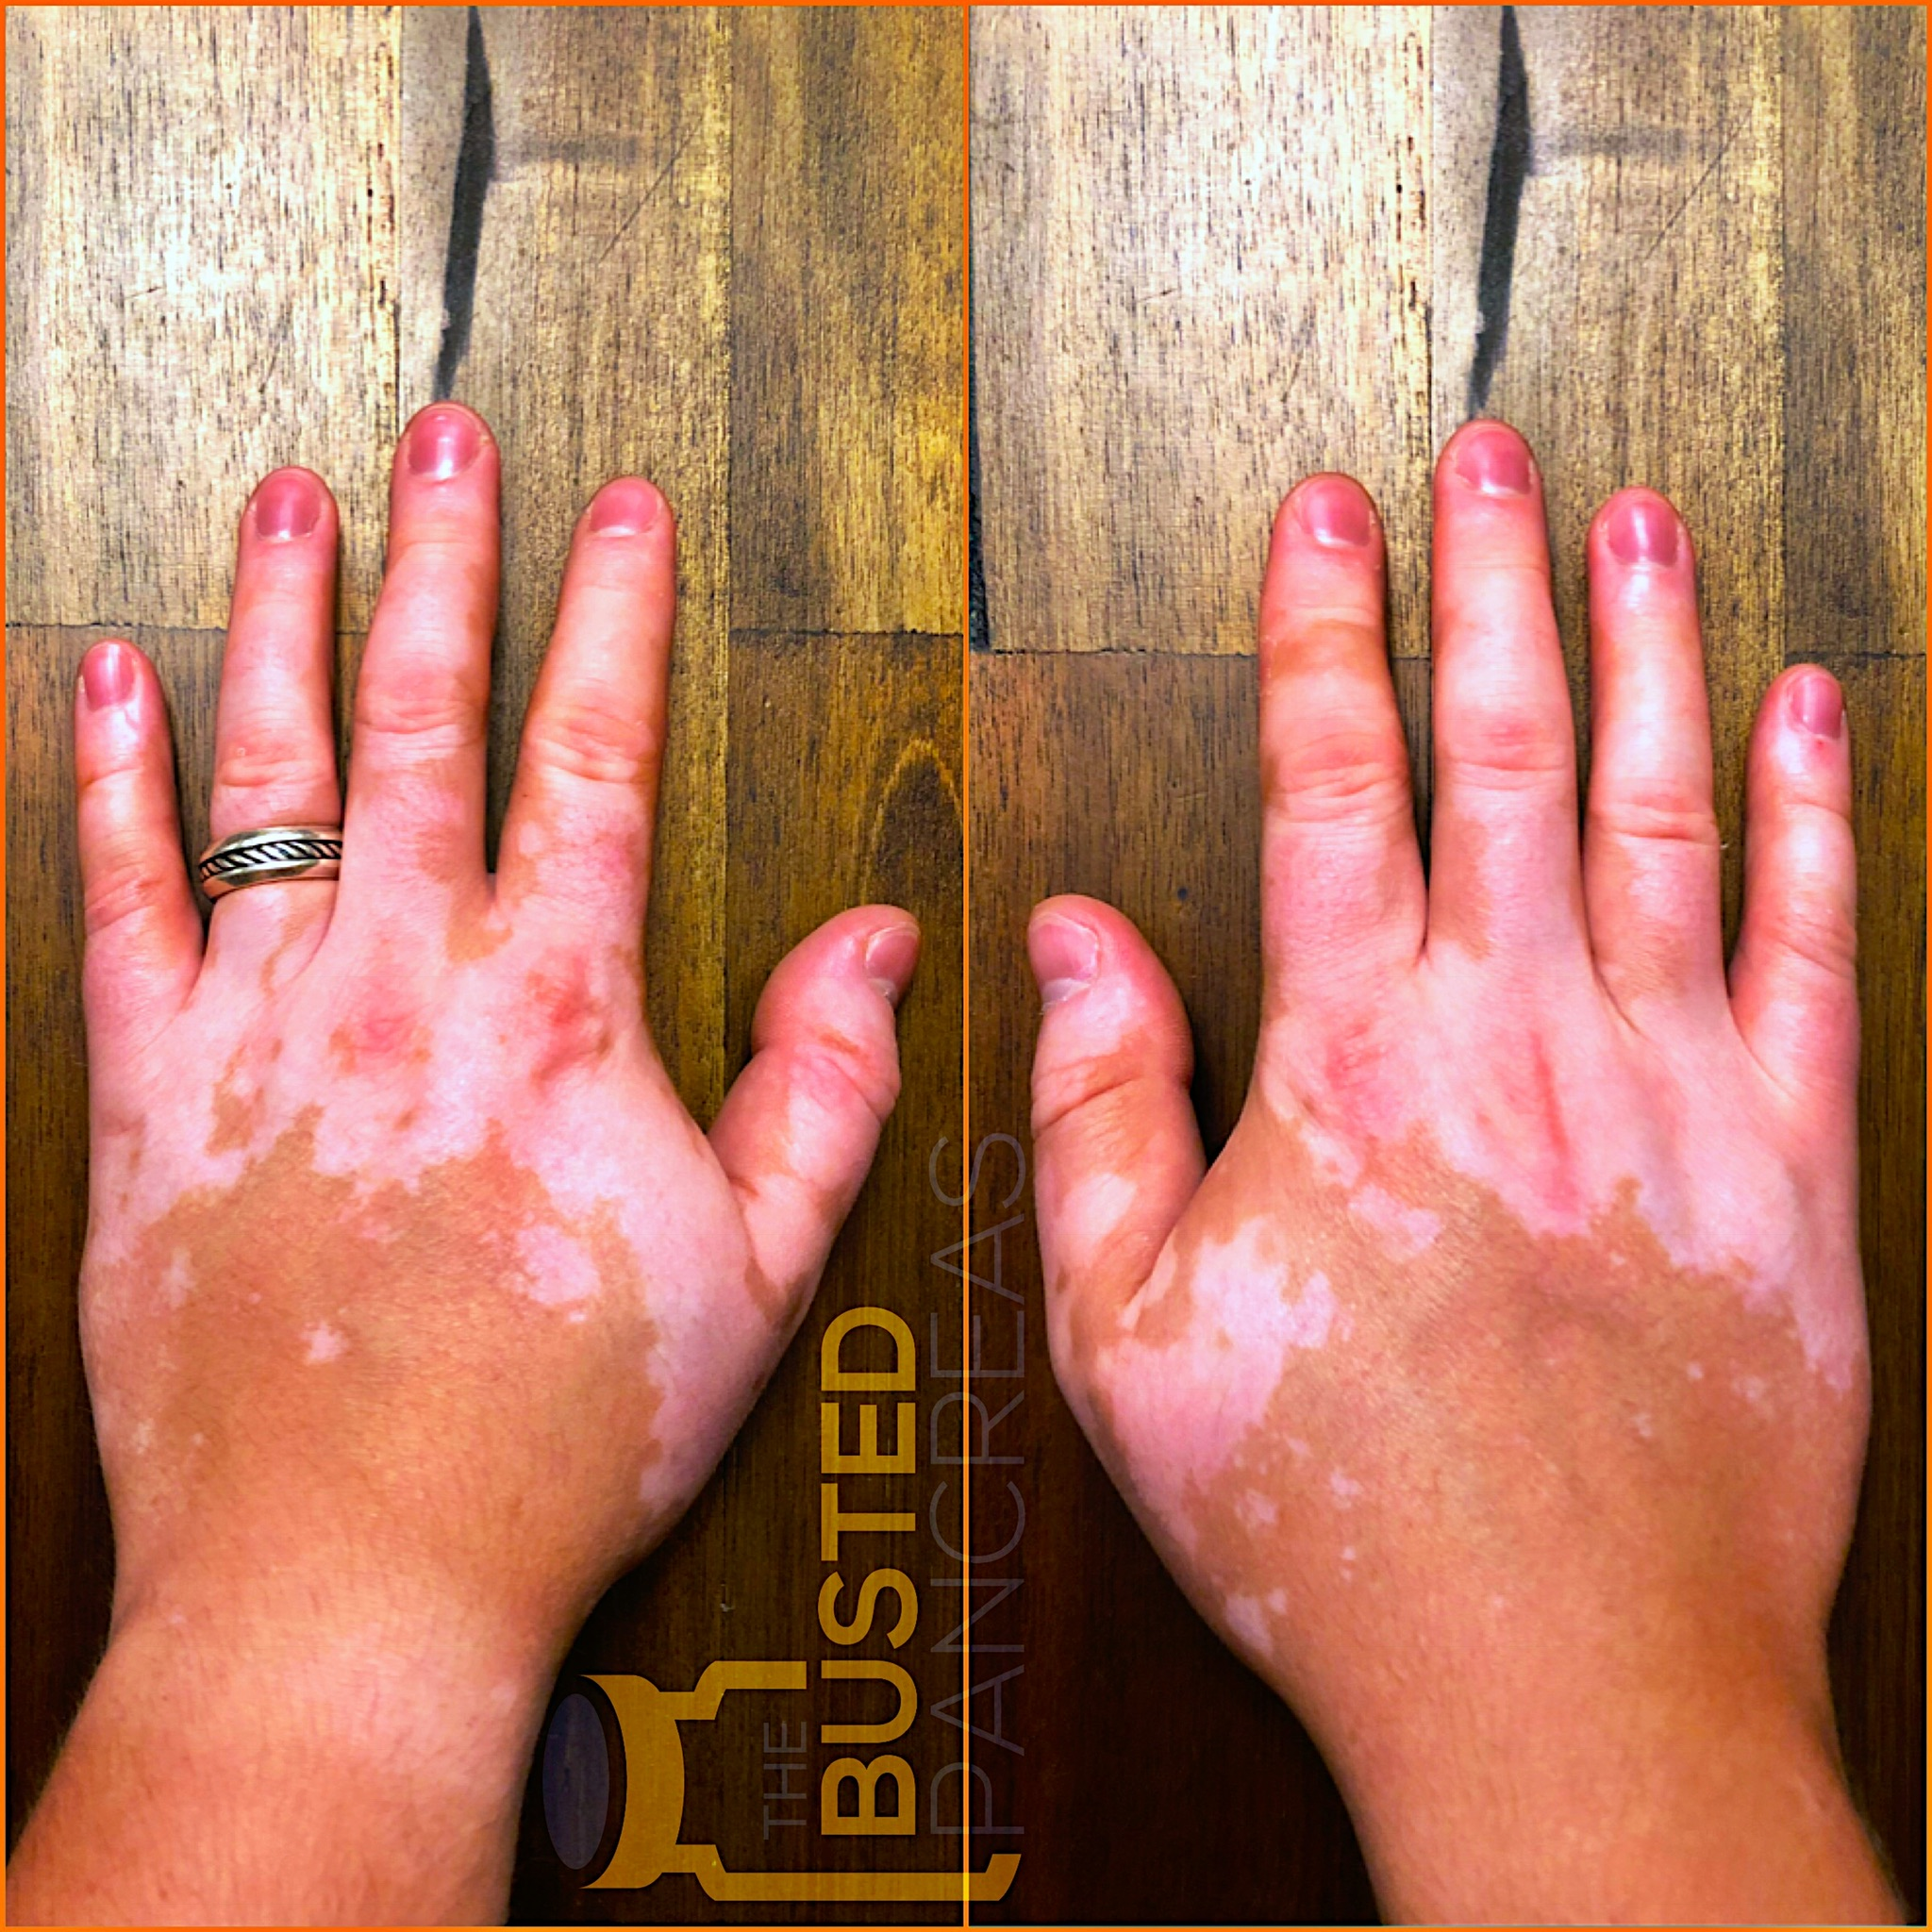Diseased: (1115, 501, 1916, 1569), (80, 478, 791, 1483)
